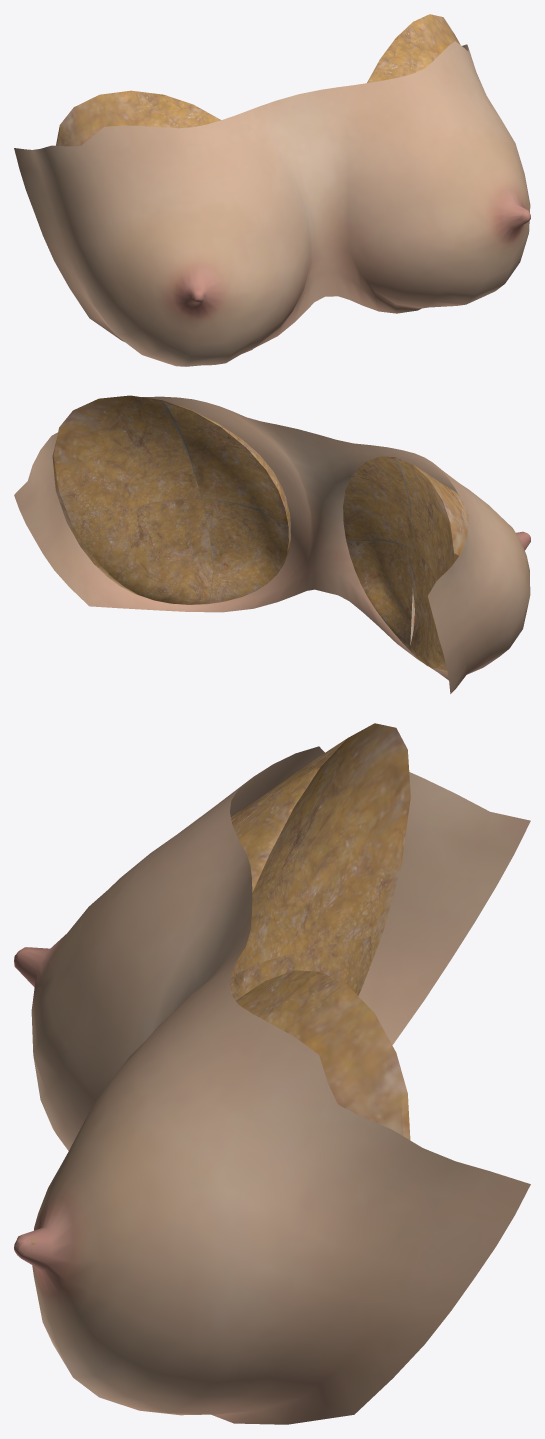
The model's file is model_Tuyenvu.fbx.
3 renders of one model, top to bottom at view 1: azimuth 30°, elevation 25°; view 2: azimuth 150°, elevation 25°; view 3: azimuth 270°, elevation 25°, orthographic. The views are drawn at different scales.
Parts seen in each view (by area): view 1: Da_Nguc, momo_P_1, momo_T_1, momo_T_2, momo_P_2; view 2: Da_Nguc, momo_T_1, momo_T_2, momo_P_2, momo_P_1; view 3: Da_Nguc, momo_P_1, momo_T_1, momo_P_2, momo_T_2.
Boxes of the visible parts, x1,y1,x2,y2 form: Da_Nguc: (14, 41, 530, 366); momo_P_1: (56, 90, 169, 146); momo_T_1: (396, 14, 460, 69); momo_T_2: (367, 38, 420, 82); momo_P_2: (163, 95, 220, 128); Da_Nguc: (14, 396, 530, 693); momo_T_1: (52, 395, 213, 604); momo_T_2: (163, 400, 290, 604); momo_P_2: (343, 456, 413, 652); momo_P_1: (395, 457, 468, 670); Da_Nguc: (14, 746, 530, 1424); momo_P_1: (230, 723, 410, 1000); momo_T_1: (264, 972, 410, 1139); momo_P_2: (231, 767, 319, 892); momo_T_2: (236, 970, 319, 1019).
Bounding box in the file's own units: 78.23 × 42.65 × 45.59.
Materials: 2 (2 with a texture image).
